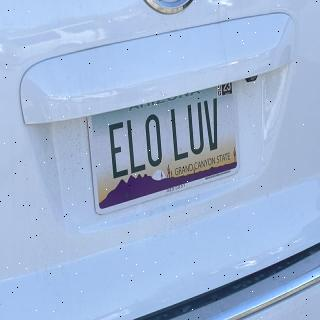license: (88, 82, 242, 219)
